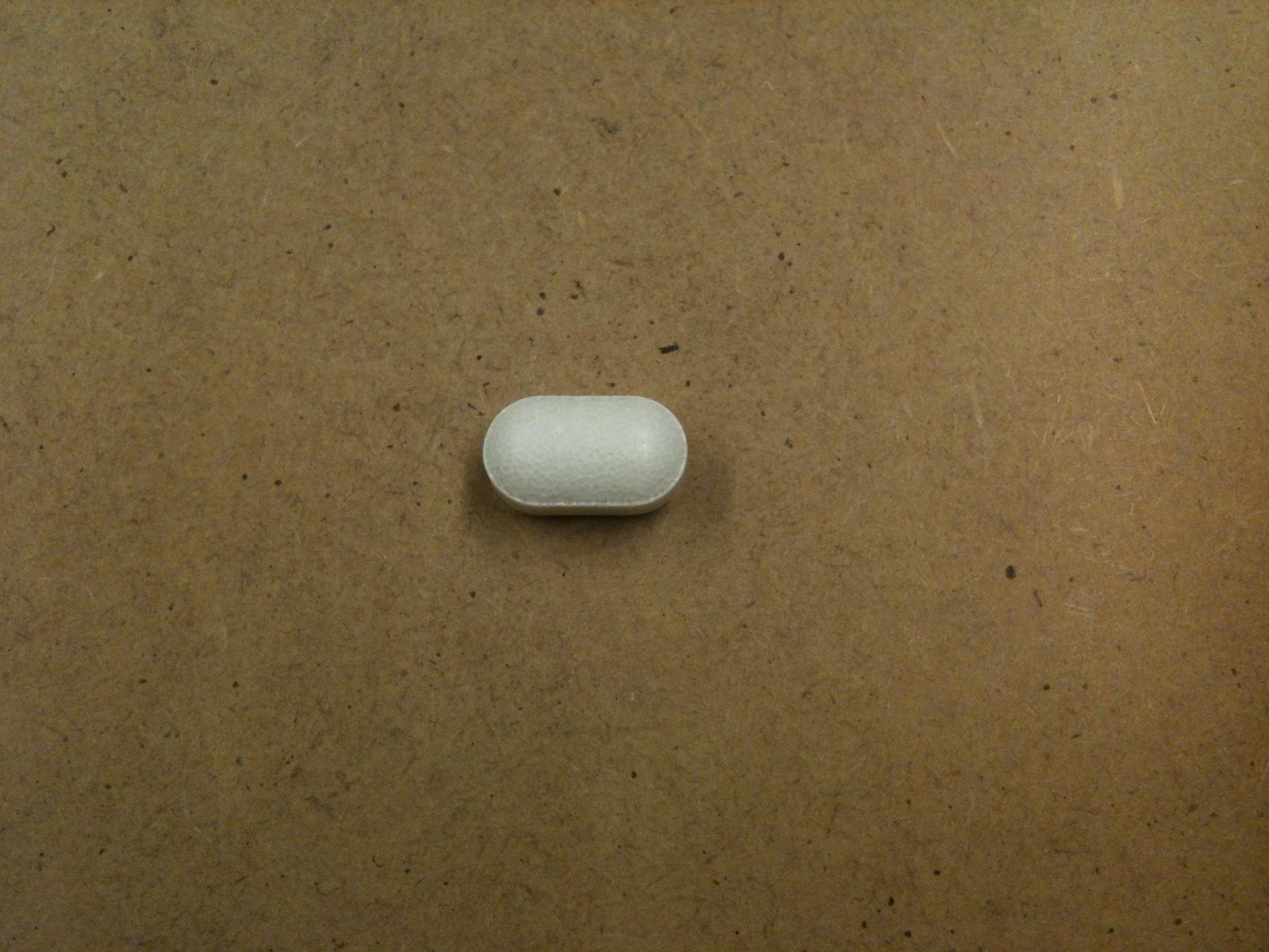Pill: (476, 389, 692, 524)
